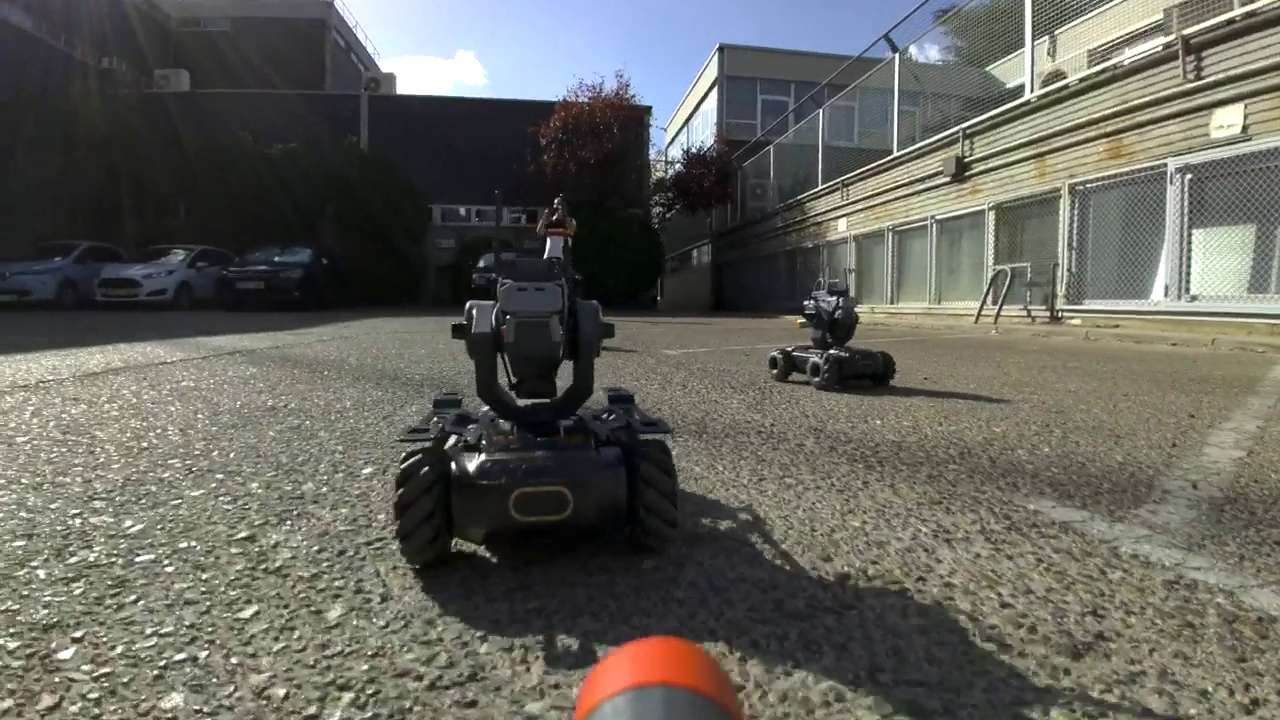robot: (389, 190, 682, 556), (768, 264, 902, 390)
